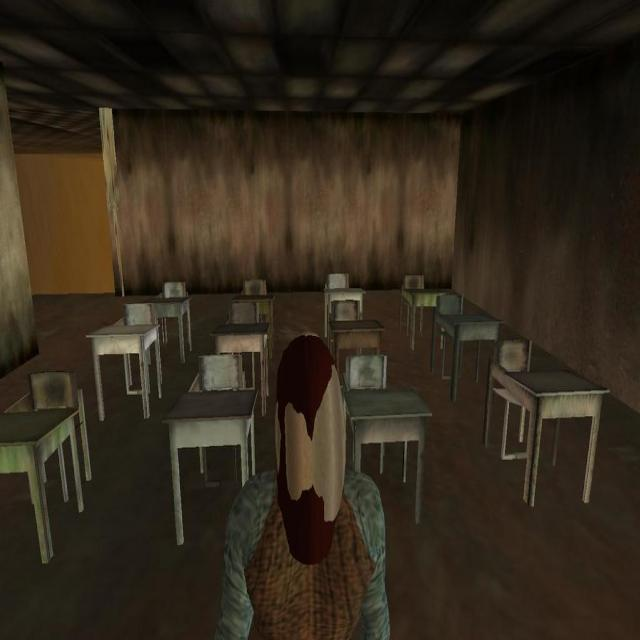desk: (486, 353, 620, 520)
person: (216, 329, 390, 636)
